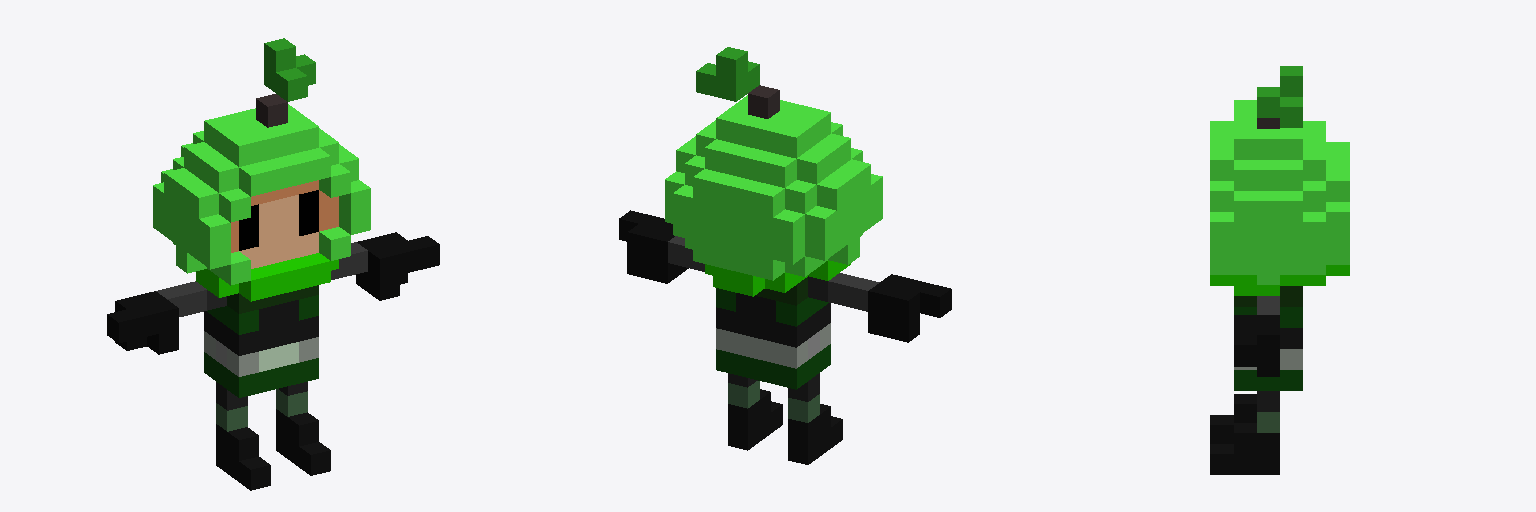
3 renders of one model, left to right at view 1: azimuth 30°, elevation 25°; view 2: azimuth 150°, elevation 25°; view 3: azimuth 270°, elevation 25°, orthographic.
Bounding box in the file's own units: 16 × 19 × 6.
Materials: 1 (1 with a texture image).